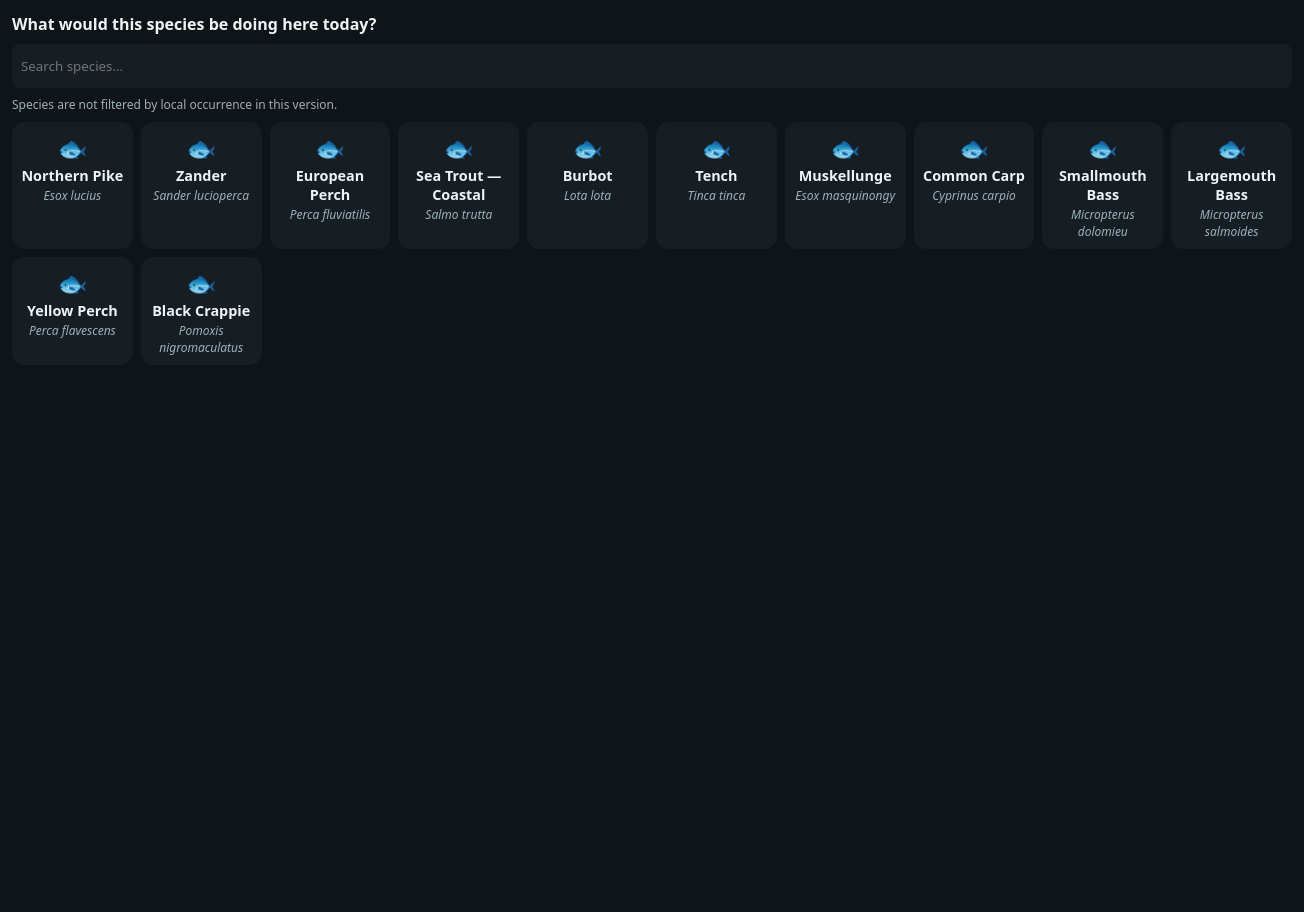
Scenario: FishActivityView › shows the Perch murky-water caveat only when murky is selected, and never changes the diel level
Click the button "🐟 European Perch Perca fluviatilis". click: (330,186)
box: [270, 122, 390, 249]
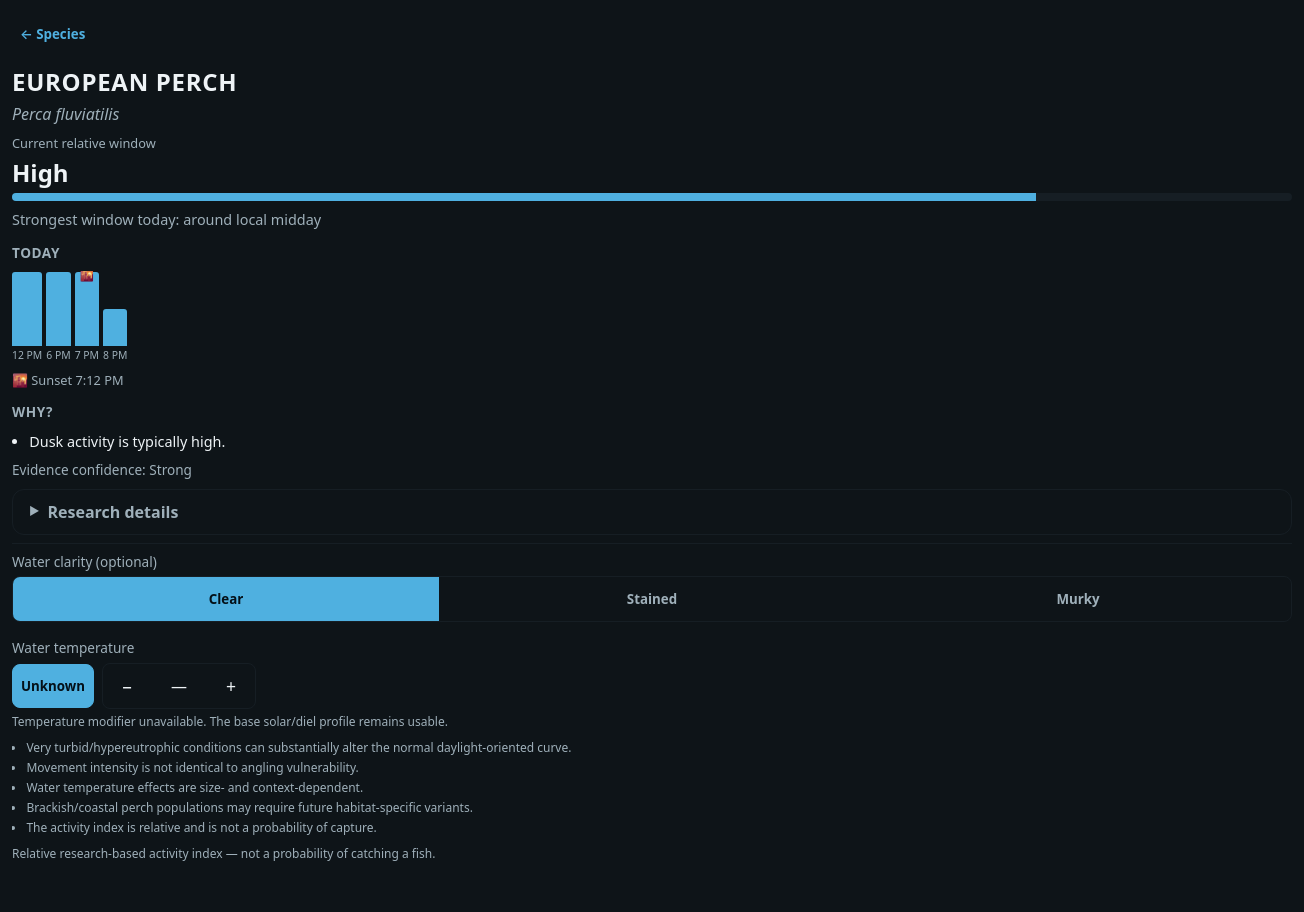
Click the radio button labelled "Murky". click: (1078,599)
box: [865, 577, 1291, 621]
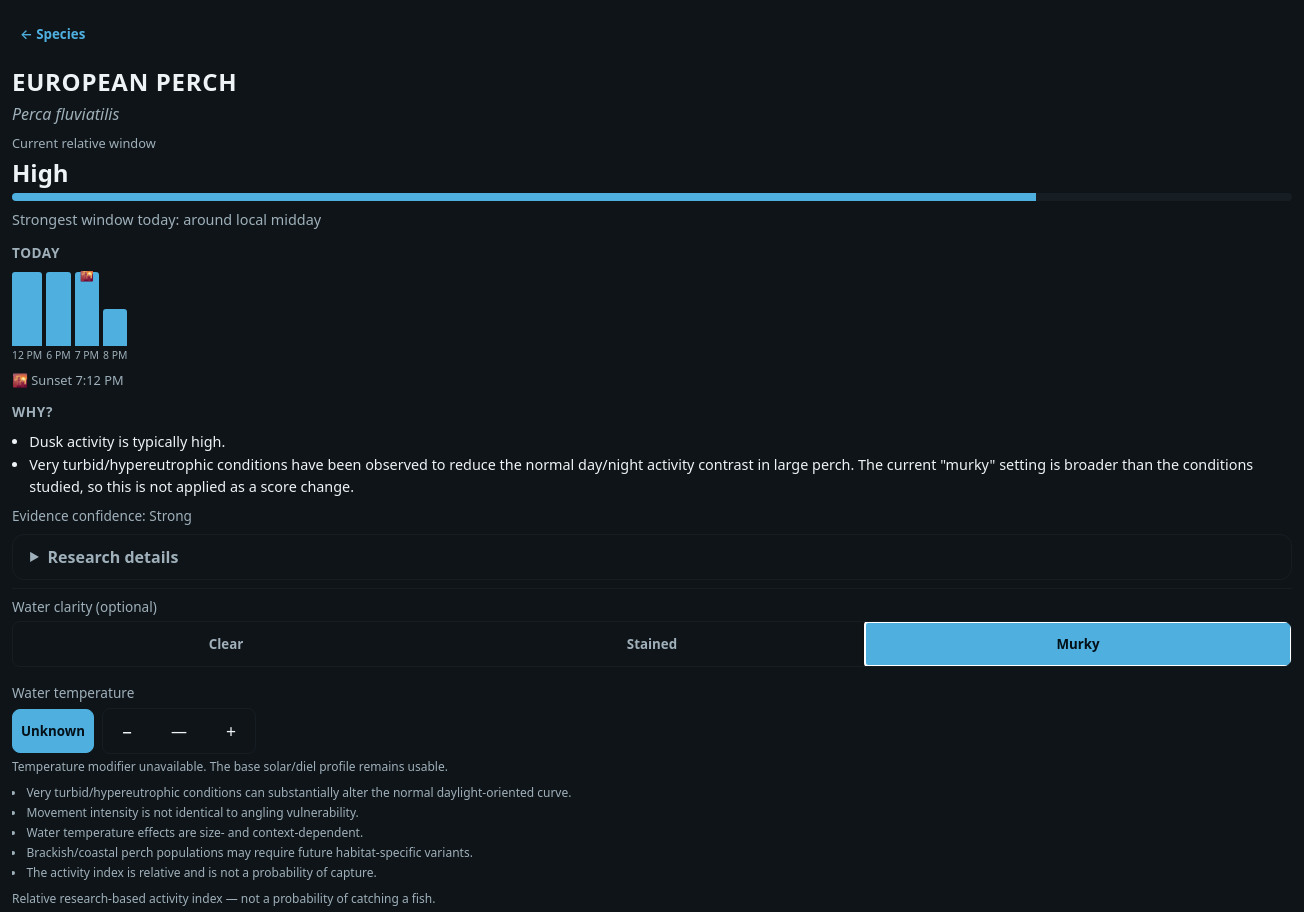
Check: the text "High" is shown, box [12, 156, 69, 189]
Check: the list item "current \"murky\" setting is broader" is shown, box [29, 455, 1253, 496]
